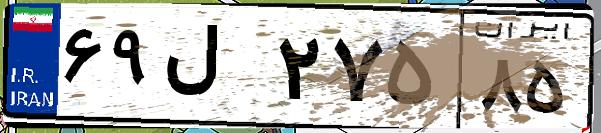2: (270, 28, 330, 110)
5: (385, 28, 445, 110), (525, 38, 570, 115)
6: (57, 26, 110, 100)
7: (330, 28, 385, 110)
8: (475, 38, 525, 113)
9: (110, 28, 158, 98)
ل: (158, 20, 270, 120)
